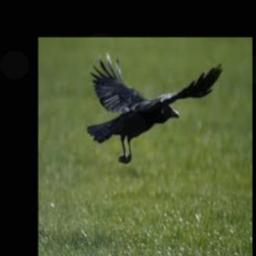Crow: (85, 47, 222, 163)
